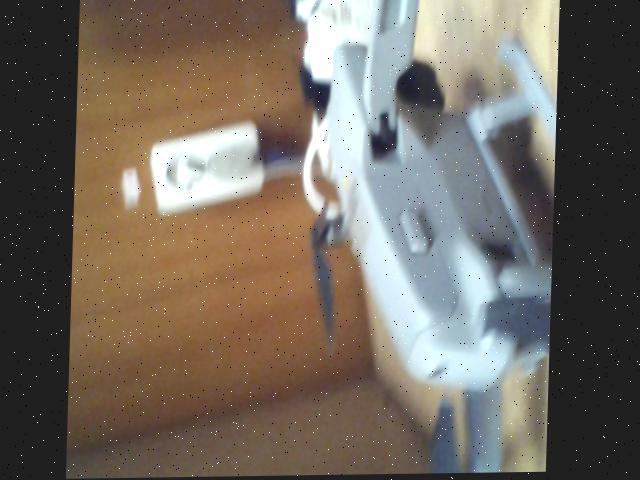drone: (285, 0, 560, 477)
